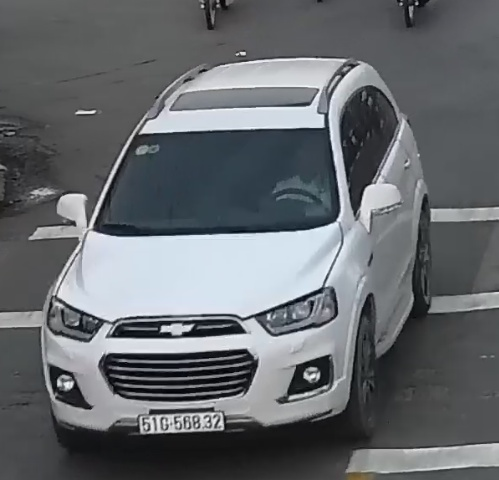vehicle plate: (134, 407, 235, 440)
